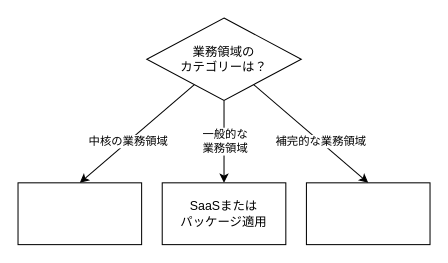
Image size: 448x263. Some labels were removed from this diagram. Here are the shapes that lost their labels. From the top down, the centre of each, then its label:
pixel 79 213: ドメインモデル設計
pixel 367 213: トランザクション スクリプト
